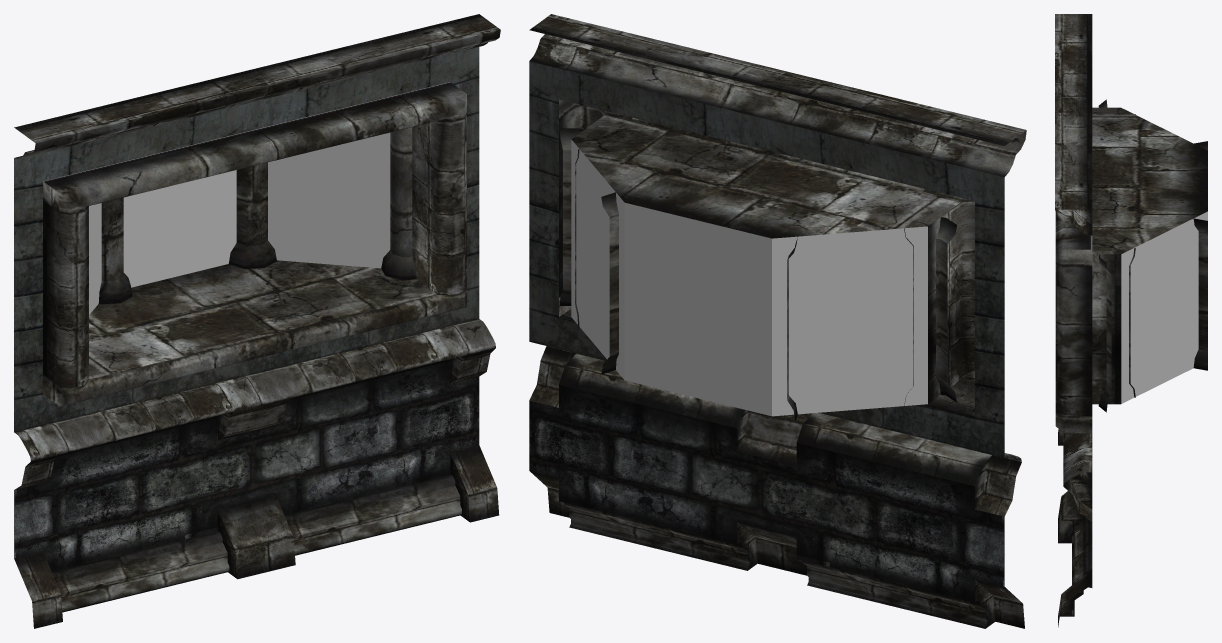
File: window02_blue_alt.dae
3 views of the same model, side by side, from view 1: azimuth 30°, elevation 25°; view 2: azimuth 150°, elevation 25°; view 3: azimuth 270°, elevation 25° (orthographic). The views are drawn at different scales.
Parts seen in each view (by area): view 1: polySurface111, polySurface116, polySurface117, pCylinder5, pCylinder2, pCylinder3; view 2: polySurface111, polySurface117, polySurface116, pCylinder4, pCylinder5, pCylinder2; view 3: polySurface116, polySurface111, polySurface117, pCylinder2, pCylinder5.
Boxes of the visible parts, x1,y1,x2,y2 form: polySurface111: (14, 14, 500, 628); polySurface116: (43, 82, 466, 406); polySurface117: (89, 132, 390, 314); pCylinder5: (381, 127, 416, 280); pCylinder2: (228, 162, 276, 268); pCylinder3: (98, 197, 132, 304); polySurface111: (529, 14, 1026, 628); polySurface117: (571, 139, 927, 416); polySurface116: (559, 99, 974, 418); pCylinder4: (904, 217, 956, 405); pCylinder5: (559, 128, 583, 327); pCylinder2: (601, 192, 618, 374); polySurface116: (1055, 107, 1207, 433); polySurface111: (1055, 14, 1092, 627); polySurface117: (1121, 211, 1207, 403); pCylinder2: (1193, 218, 1207, 370); pCylinder5: (1098, 248, 1135, 412).
Bounding box in the file's own units: 4 × 4 × 1.32.
